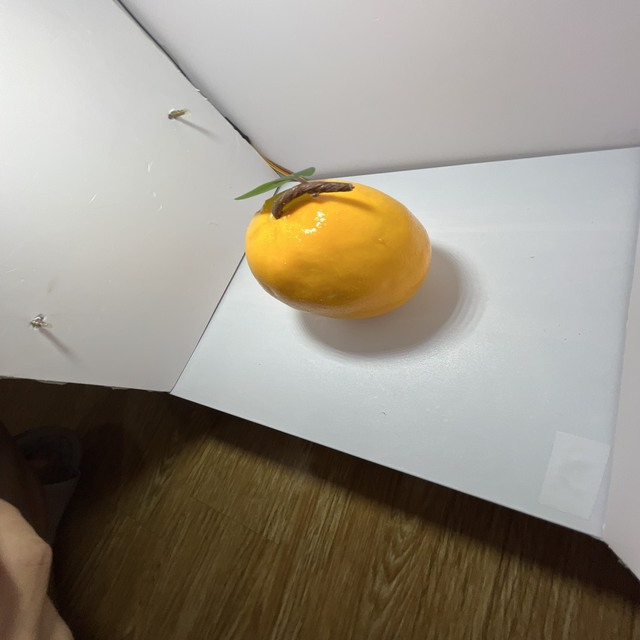Cam vang: (239, 175, 434, 323)
